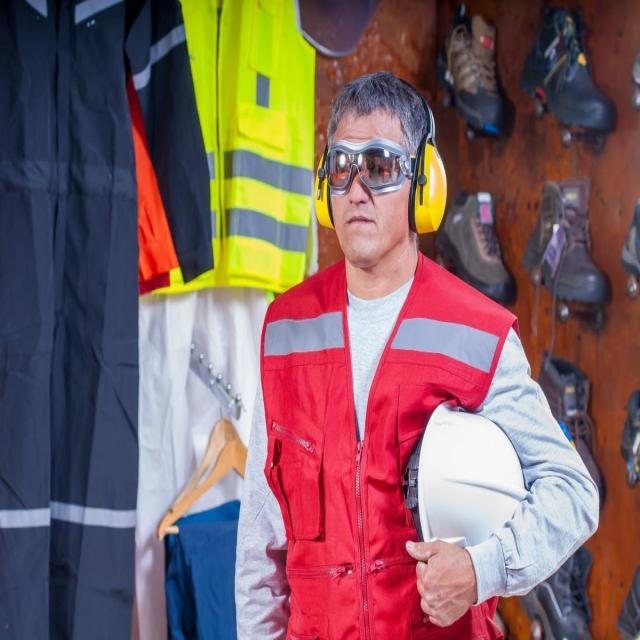Vest: (250, 237, 524, 609)
